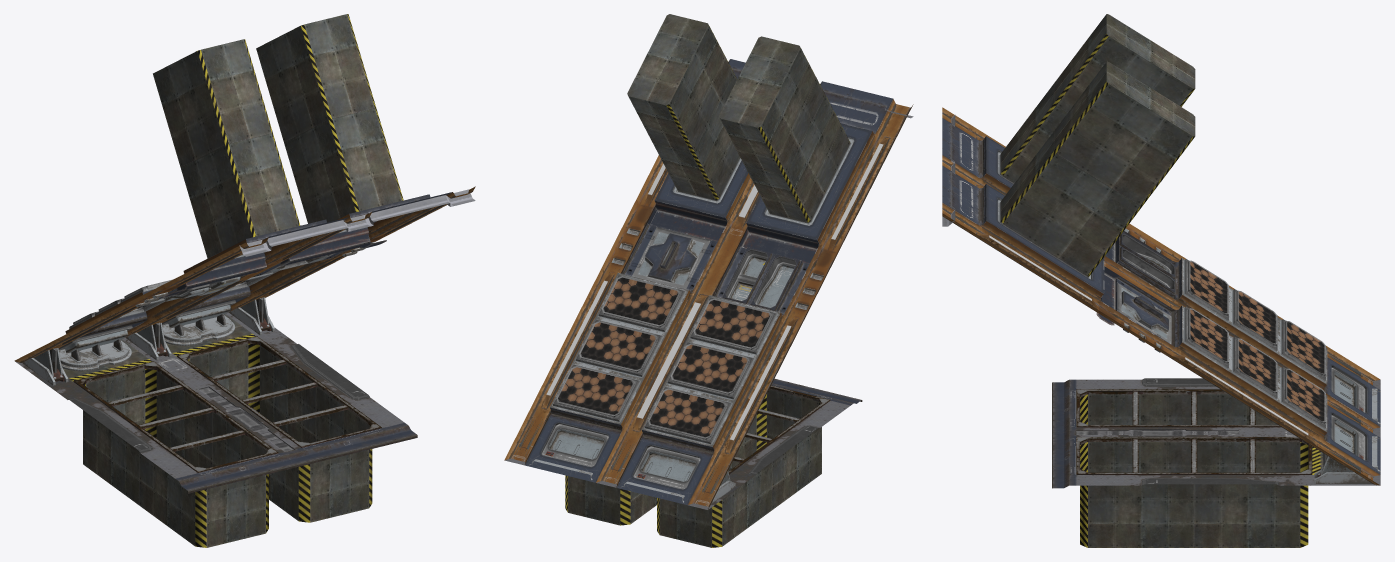
File: env_Hallway_Base.FBX
3 views of the same model, side by side, from view 1: azimuth 30°, elevation 25°; view 2: azimuth 150°, elevation 25°; view 3: azimuth 270°, elevation 25° (orthographic). The views are drawn at different scales.
Visible parts, largest first — view 1: env_Hallway_Base; view 2: env_Hallway_Base; view 3: env_Hallway_Base.
Part boxes in pixels (x1,y1,x2,y2): env_Hallway_Base: [14, 14, 475, 547]; env_Hallway_Base: [504, 14, 913, 547]; env_Hallway_Base: [942, 14, 1380, 547].
Size of the model in its own units: 1000 by 2023 by 1750.
